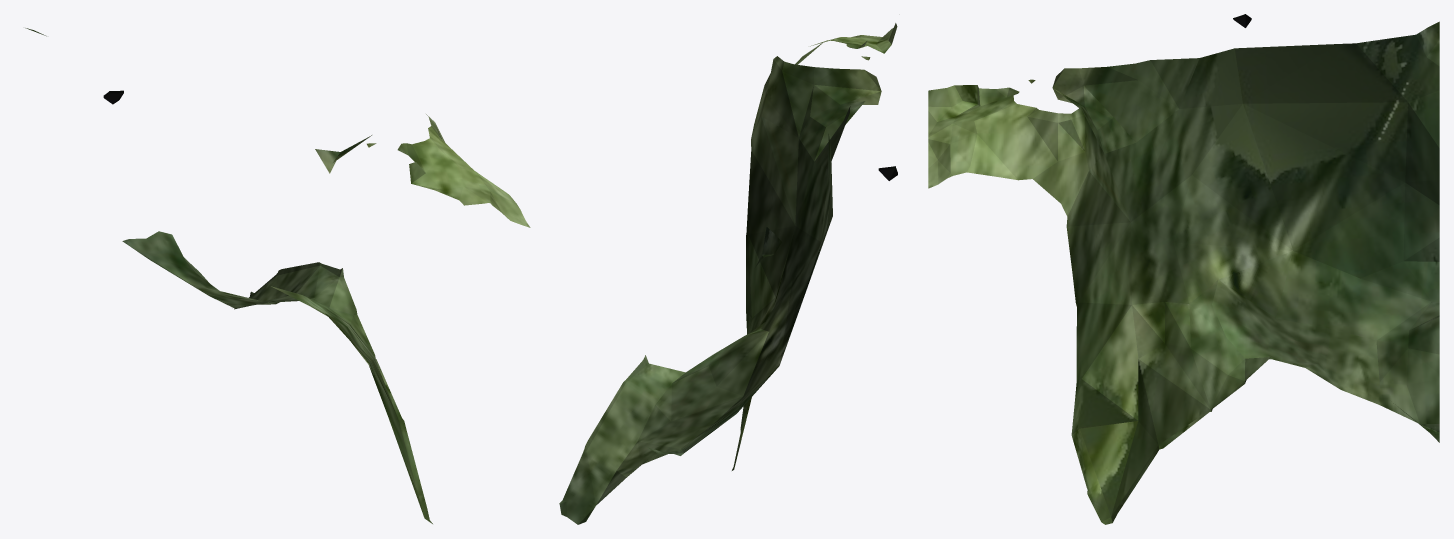
3 views of the same model, side by side, from view 1: azimuth 30°, elevation 25°; view 2: azimuth 150°, elevation 25°; view 3: azimuth 270°, elevation 25° (orthographic). The views are drawn at different scales.
Size of the model in its own units: 1.55 by 2.53 by 2.95.
Materials: 2 (2 with a texture image).
